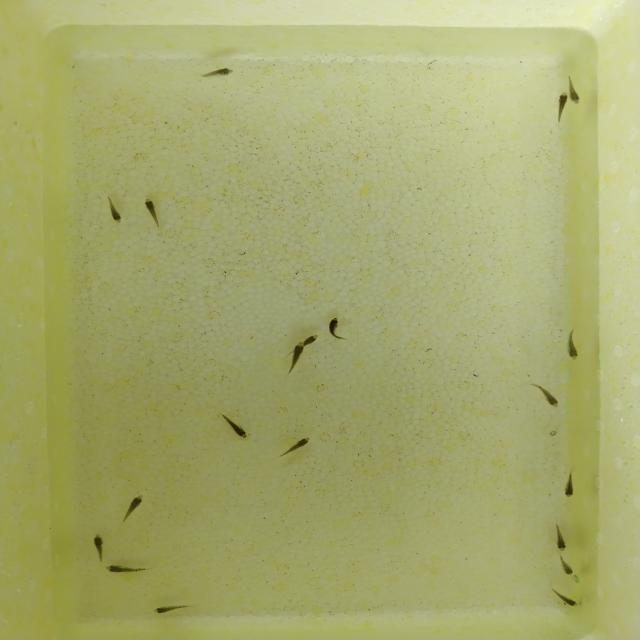fingerling: (274, 434, 315, 461), (524, 379, 560, 409), (220, 410, 250, 441), (100, 193, 128, 226), (140, 192, 163, 232), (120, 492, 146, 526), (194, 64, 241, 82), (284, 340, 305, 380), (100, 563, 162, 576), (324, 314, 350, 343), (560, 328, 582, 362), (550, 520, 571, 553), (549, 586, 579, 609), (150, 602, 197, 616), (89, 531, 109, 561), (560, 466, 577, 500), (556, 556, 576, 577), (569, 73, 581, 107), (554, 91, 568, 111), (306, 332, 319, 346)
